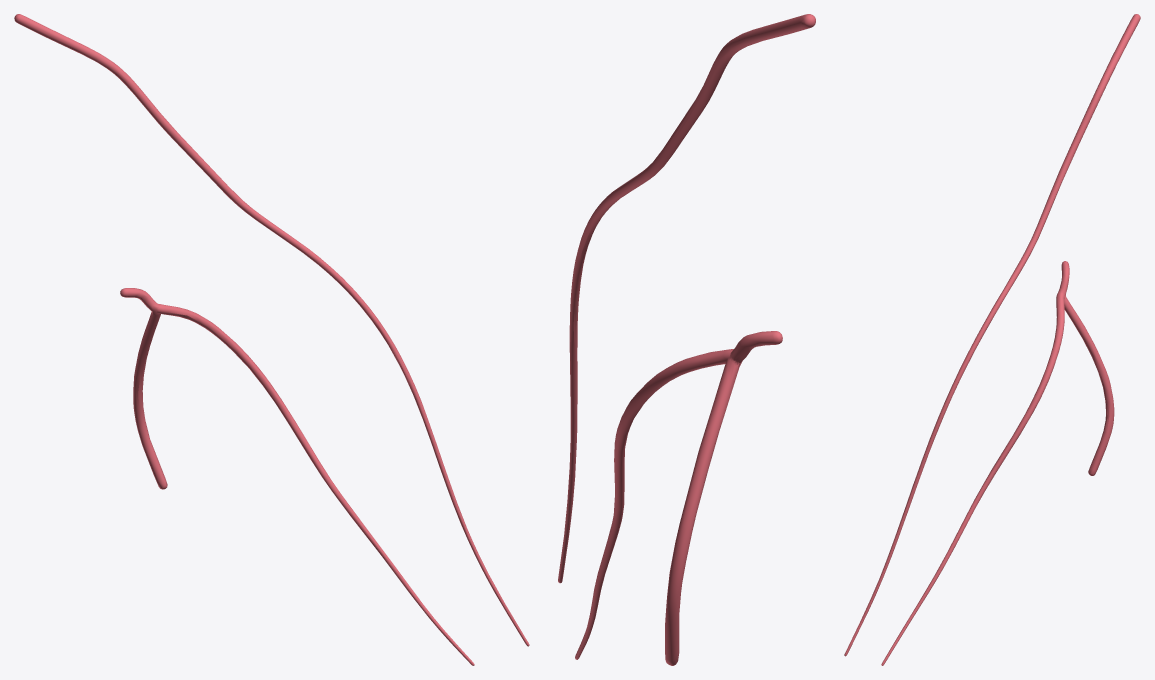
File: fma22921_cx50.glb
3 renders of one model, left to right at view 1: azimuth 30°, elevation 25°; view 2: azimuth 150°, elevation 25°; view 3: azimuth 270°, elevation 25°, orthographic. The views are drawn at different scales.
Parts seen in each view (by area): view 1: FMA22921_CX50; view 2: FMA22921_CX50; view 3: FMA22921_CX50.
Part boxes in pixels (x1,y1,x2,y2): FMA22921_CX50: (14, 14, 529, 665); FMA22921_CX50: (558, 14, 815, 665); FMA22921_CX50: (844, 14, 1140, 665).
Size of the model in its own units: 0.0592 by 0.1015 by 0.052.
